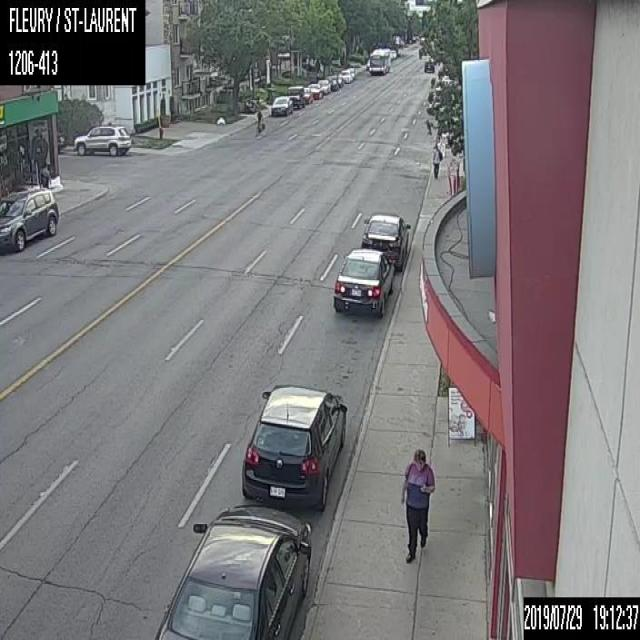bus: (369, 48, 390, 75)
cyclist: (252, 108, 264, 137)
pedestrian: (401, 447, 435, 562), (432, 141, 442, 179), (40, 160, 51, 188)
vehicle: (155, 504, 311, 639), (241, 384, 347, 510), (331, 248, 394, 316), (0, 181, 58, 251), (361, 211, 410, 271), (73, 124, 131, 155), (270, 95, 291, 116), (286, 85, 304, 108), (307, 82, 323, 98), (316, 78, 330, 92), (338, 69, 352, 82), (303, 86, 312, 103), (424, 59, 434, 72)
